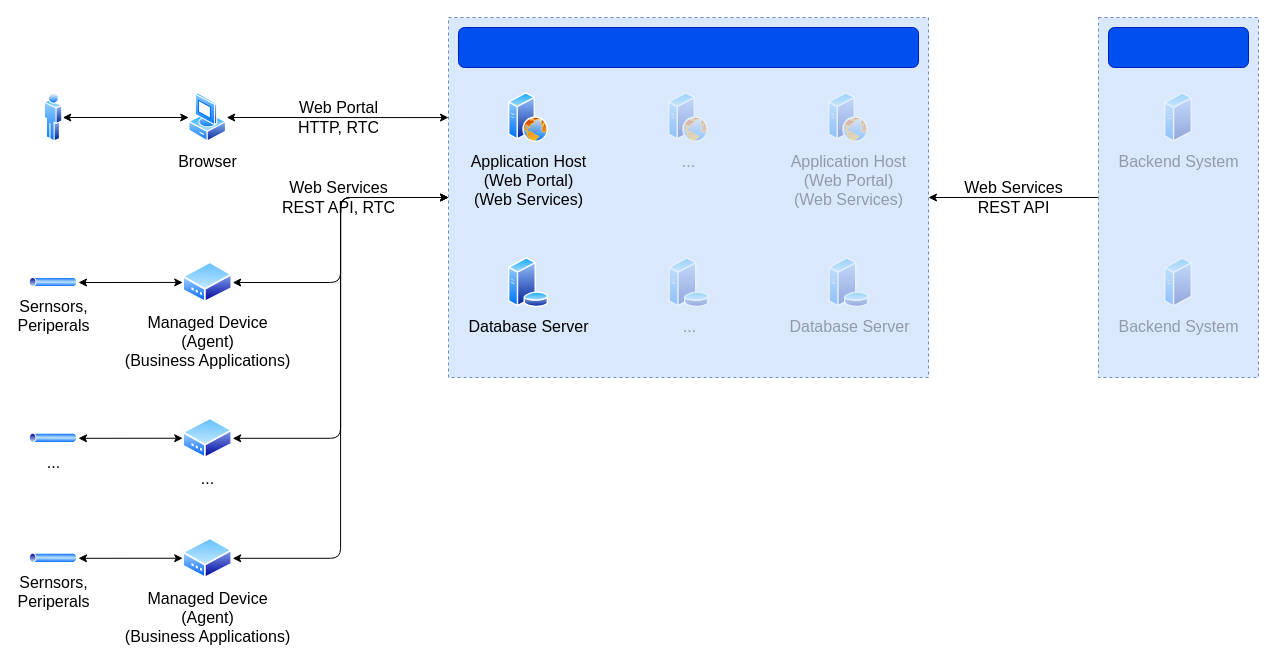
This 1276x664 diagram has some shape labels left out. The shapes that lost their labels are listed below. From the top down, each one's centre as x and y in pixels, then its label:
At point 688,47: "Data Center / Cloud".
At point 1178,47: "Backend Systems".
At point 53,117: "User".
